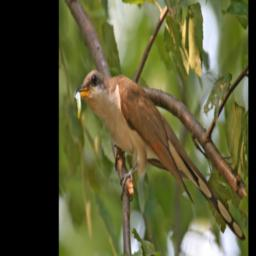Cuckoo: (71, 68, 247, 243)
